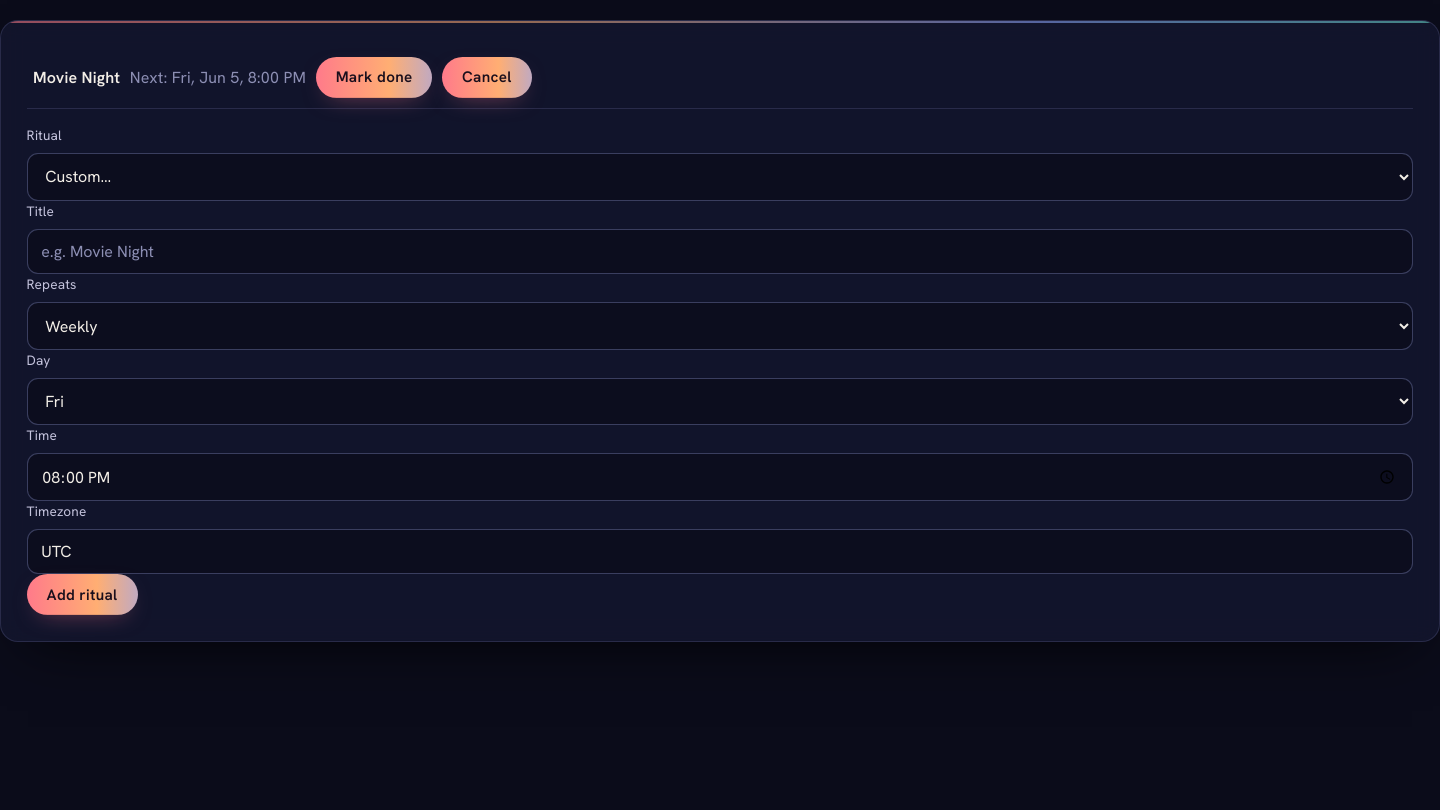
Scenario: RitualsSection › lists rituals and creates a new one
The width and height of the screenshot is (1440, 810).
Expected: the text "Movie Night" is shown, [33, 65, 120, 90]
Type "Game Night" into the field labelled "Title".
click(720, 252); type("Game Night")  # box [27, 229, 1413, 274]
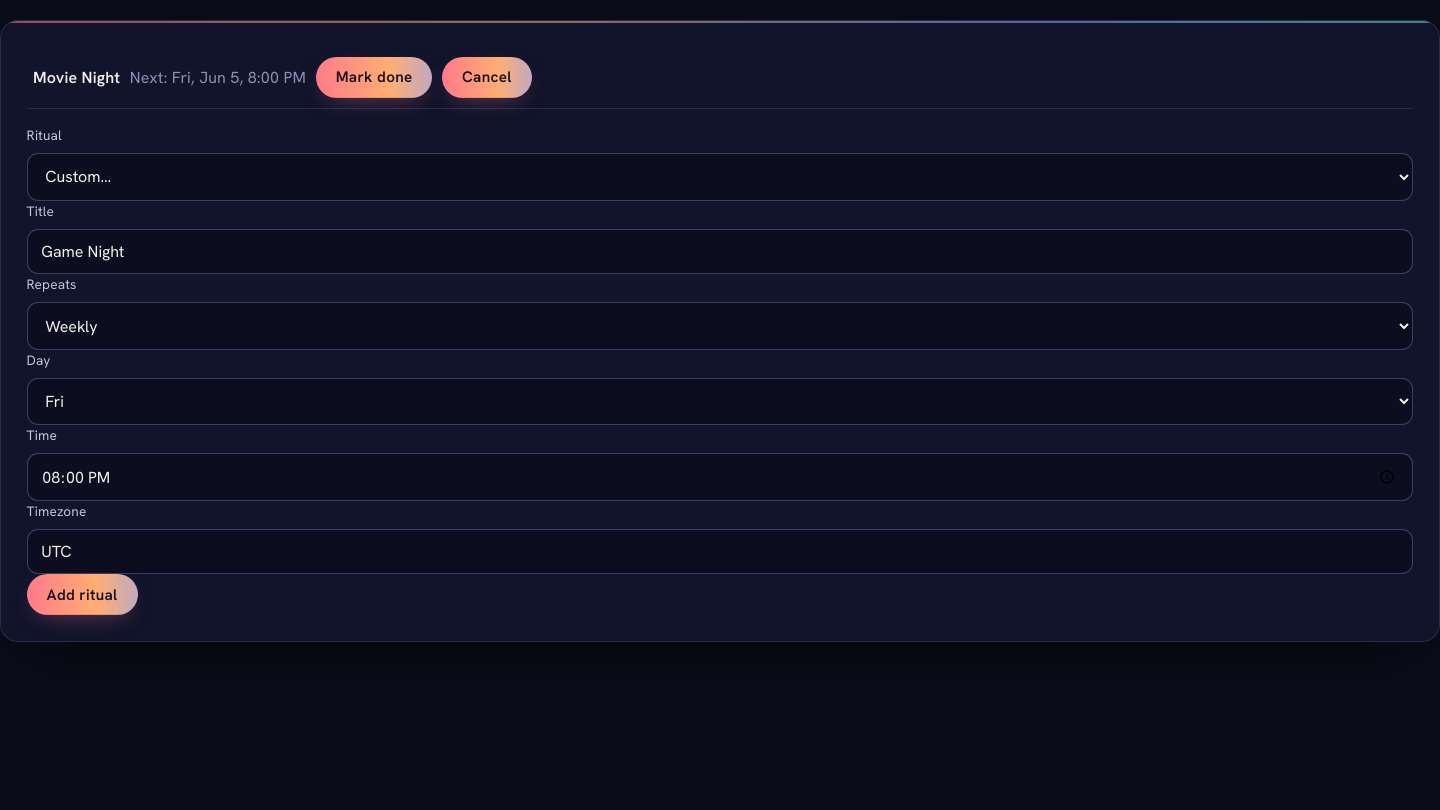
Click the button "Add ritual".
click(82, 595)  # box [27, 574, 138, 615]
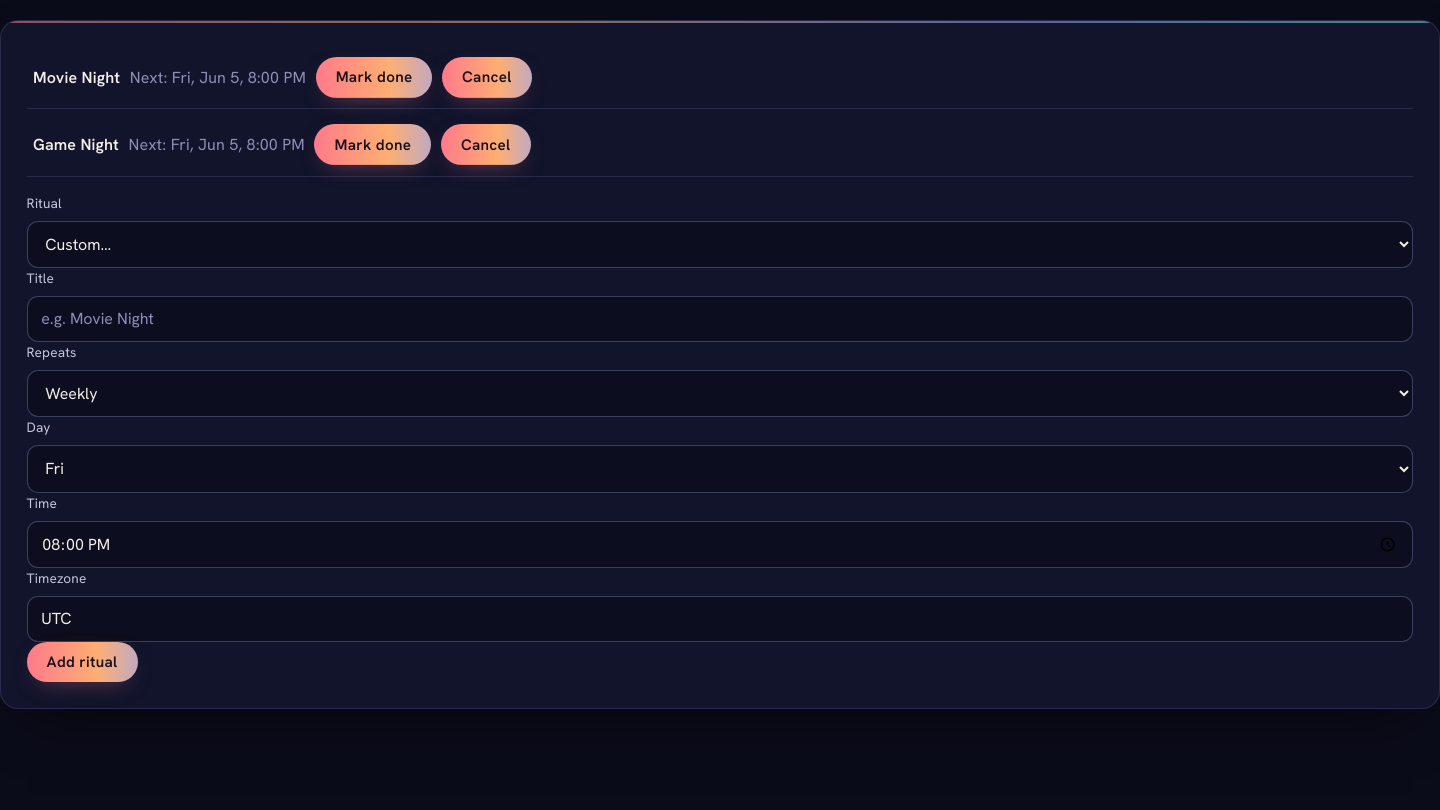
Now the text "Game Night" is shown, box [33, 132, 119, 158]
